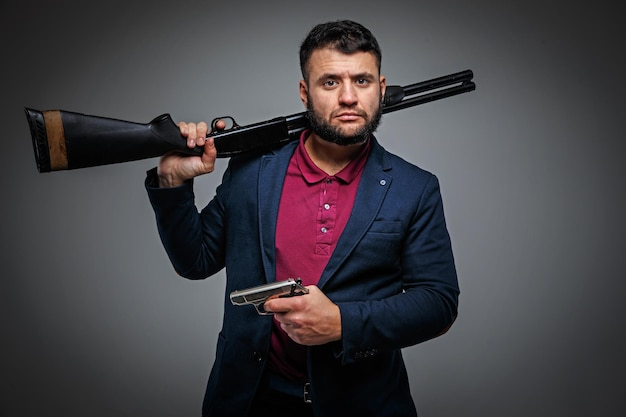gun: (26, 68, 476, 176), (228, 275, 309, 317)
